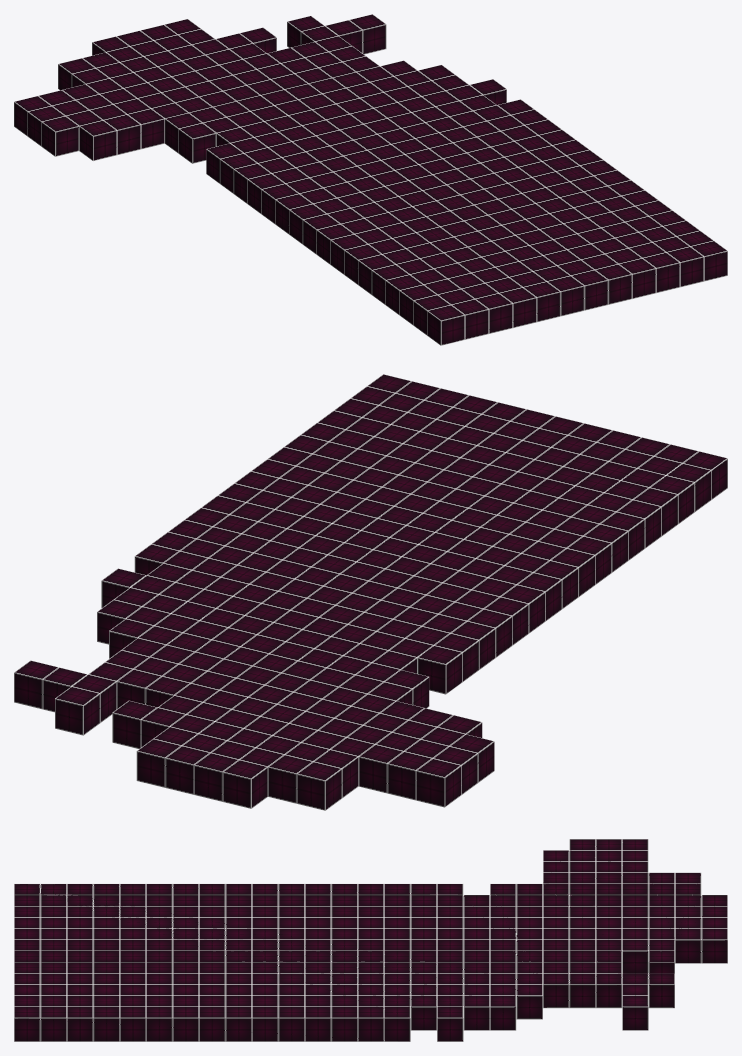
The model's file is Level1_platforms2.fbx.
3 renders of one model, top to bottom at view 1: azimuth 30°, elevation 25°; view 2: azimuth 150°, elevation 25°; view 3: azimuth 270°, elevation 25°, orthographic. The views are drawn at different scales.
Parts seen in each view (by area): view 1: FourthPlatform; view 2: FourthPlatform; view 3: FourthPlatform.
Boxes of the visible parts, x1,y1,x2,y2 form: FourthPlatform: (14,14,727,345); FourthPlatform: (14,374,727,810); FourthPlatform: (14,839,727,1041).
Size of the model in its own units: 1600 by 100 by 2700.
